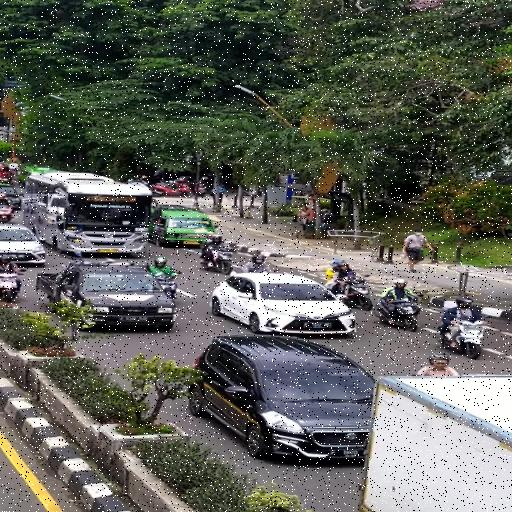Helmet: (426, 349, 450, 371), (454, 292, 476, 310), (154, 252, 170, 270), (204, 230, 222, 246), (332, 258, 352, 272), (390, 276, 408, 290), (251, 248, 265, 265), (0, 252, 12, 266)
Motor: (442, 316, 486, 358), (326, 281, 376, 310), (377, 298, 418, 333), (146, 271, 178, 303), (201, 253, 232, 275), (0, 268, 18, 299)
